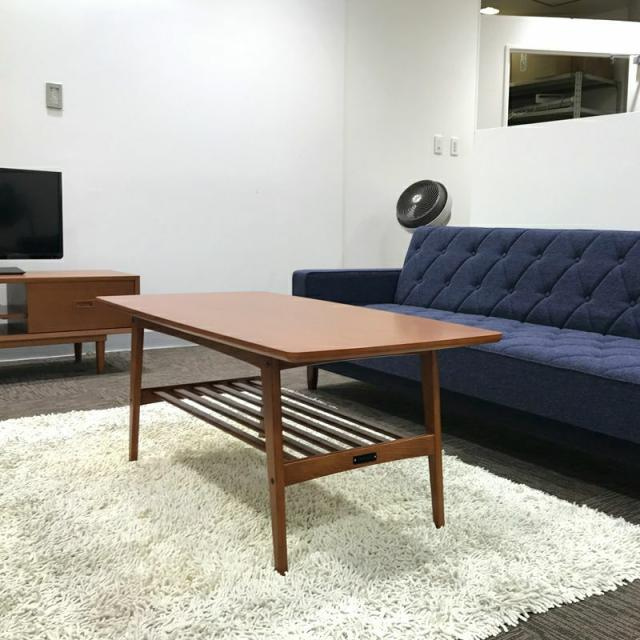vintage desk: (94, 288, 500, 573)
vintage shelf: (0, 260, 138, 365)
vintage sofa: (296, 223, 640, 506)
